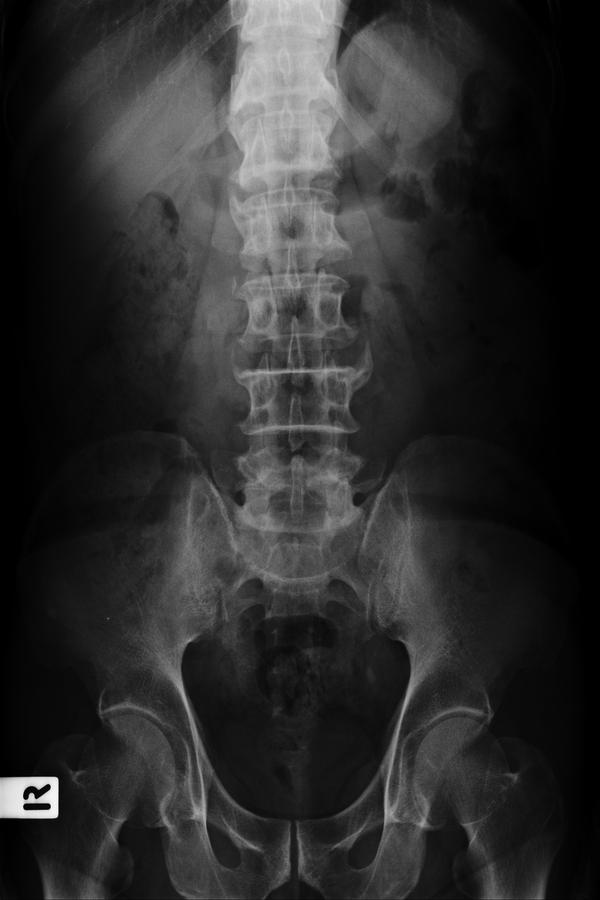not lumbar scoliosis: (223, 190, 371, 556)
